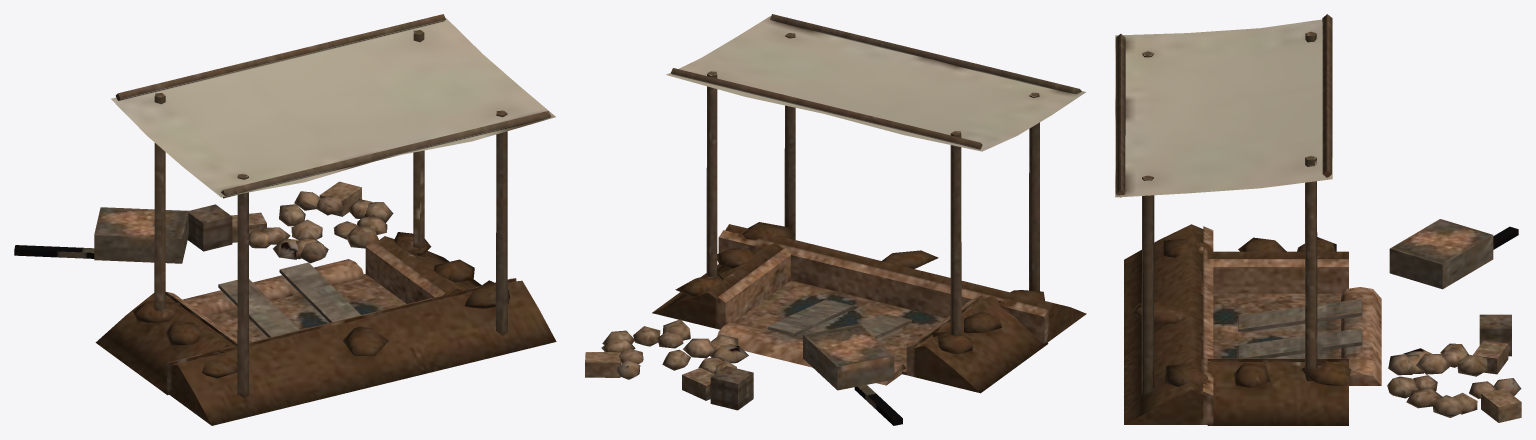
Rendered from b_claypit_far.glb.
3 renders of one model, left to right at view 1: azimuth 30°, elevation 25°; view 2: azimuth 150°, elevation 25°; view 3: azimuth 270°, elevation 25°, orthographic. The views are drawn at different scales.
Parts seen in each view (by area): view 1: b_claypit_far; view 2: b_claypit_far; view 3: b_claypit_far.
Boxes of the visible parts, left/top/right/bottom form: b_claypit_far: left=14, top=14, right=556, bottom=425; b_claypit_far: left=585, top=14, right=1086, bottom=425; b_claypit_far: left=1115, top=14, right=1521, bottom=425.
Size of the model in its own units: 3.64 by 2.54 by 3.74.
1 material, 1 textured.
